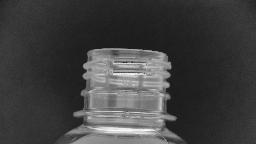No Cap: (69, 44, 181, 124)
